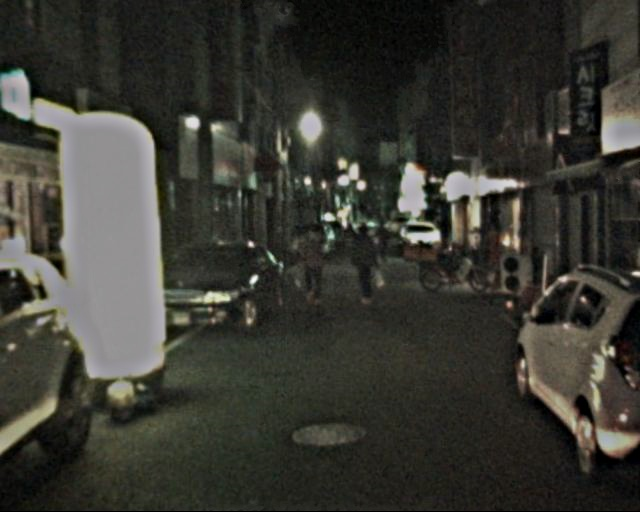person: (295, 221, 333, 309), (348, 225, 381, 305), (377, 218, 394, 260)
